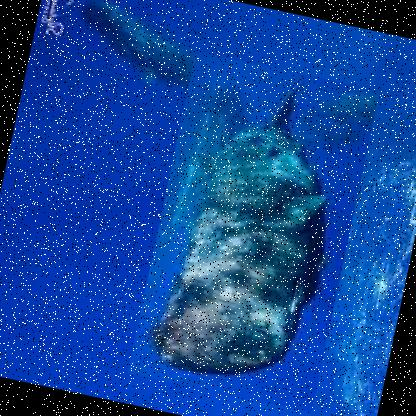sperm_whale: (126, 49, 378, 412)
